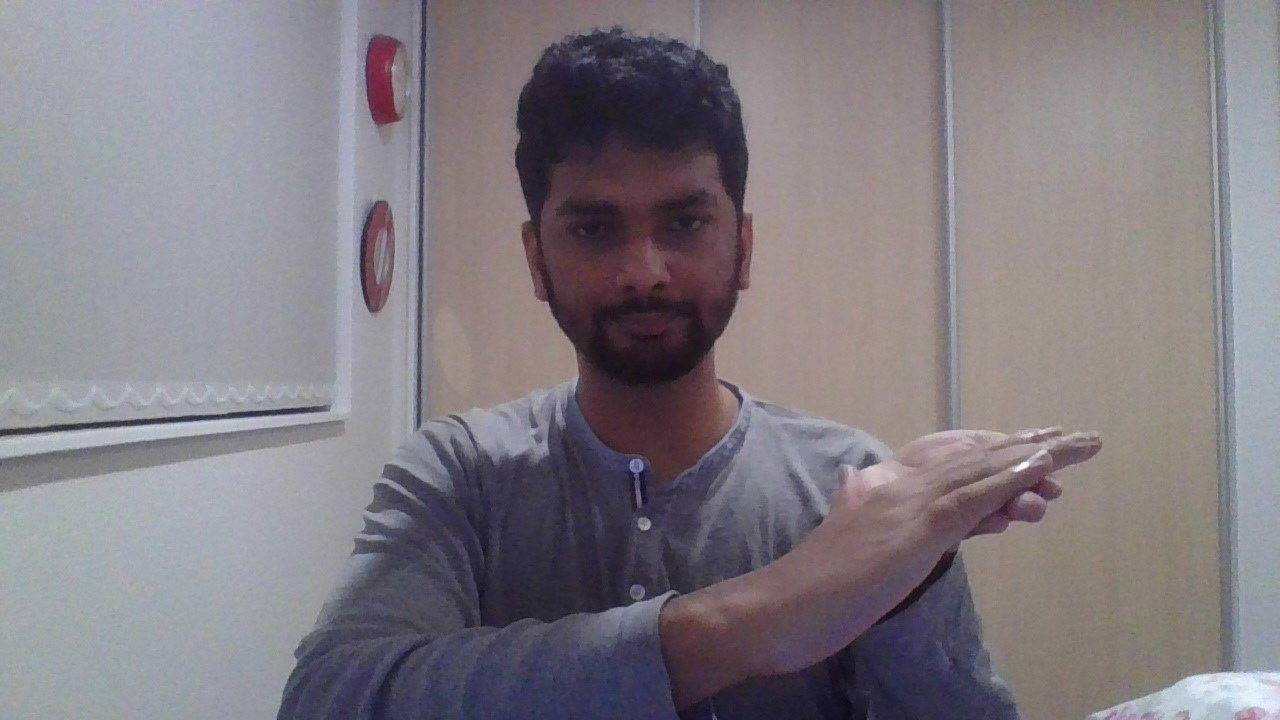clear: (714, 424, 1104, 678)
